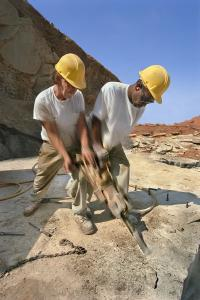helmet: (129, 63, 173, 108), (49, 51, 89, 100)
